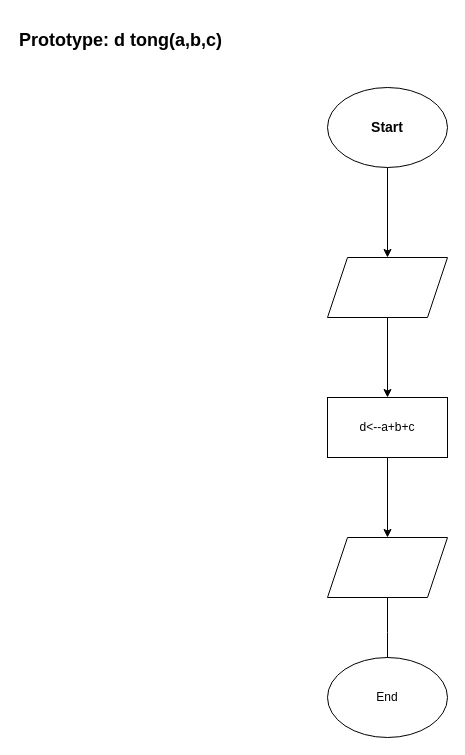
The diagram is 465 pixels wide and 755 high, and some of its shapes have lost their labels. Each missing label, with the centre of its shape:
Display d: point (387, 567)
Input a,b,c: point (387, 287)
